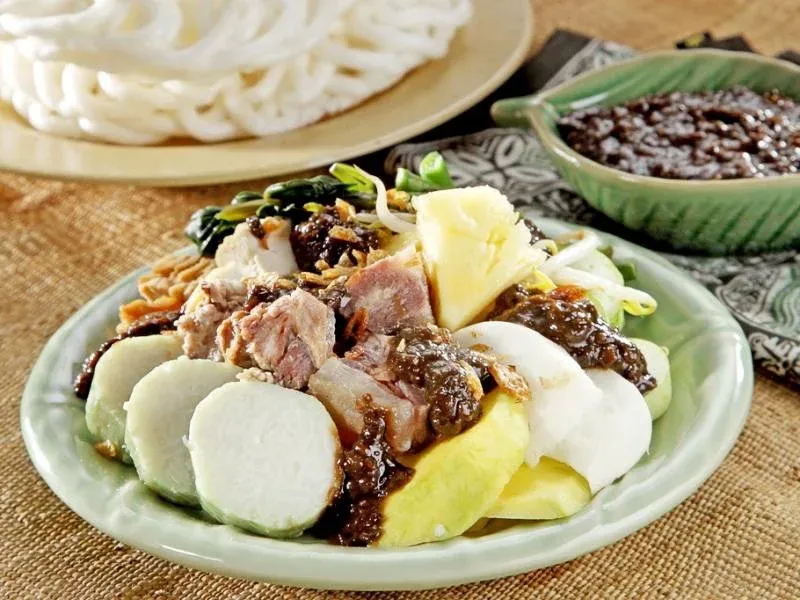rujak_cingur: (72, 163, 672, 549)
